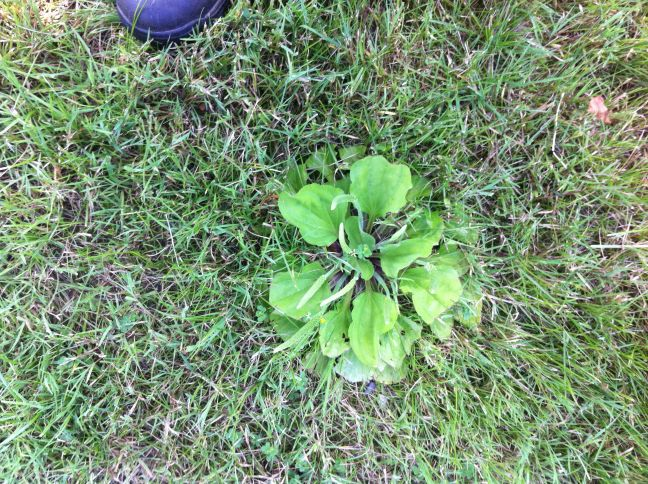weed1: (266, 143, 480, 389)
